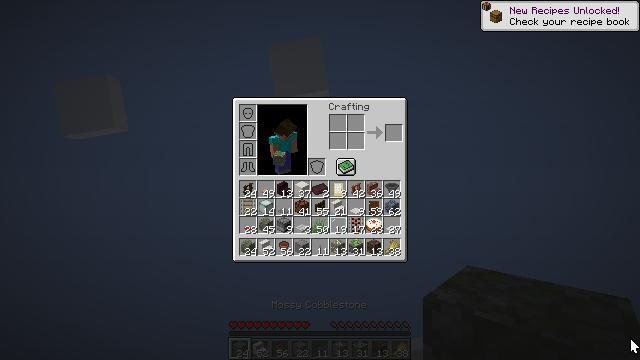cursor: (630, 338, 640, 354)
